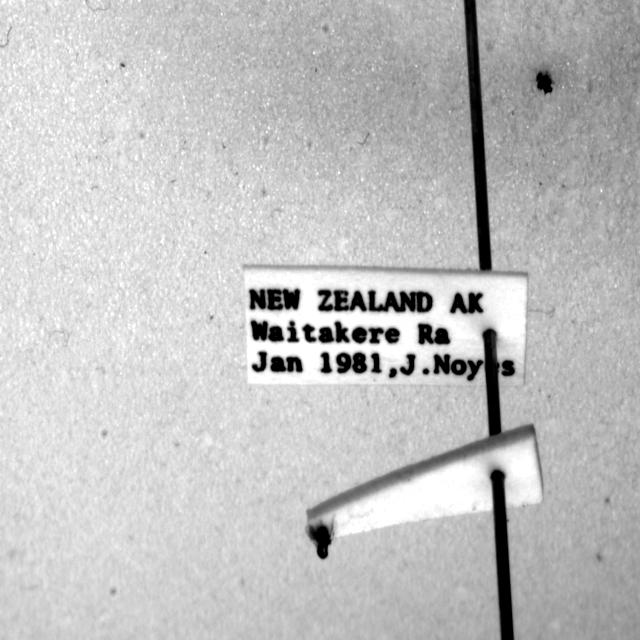typed_label: (244, 266, 528, 386)
